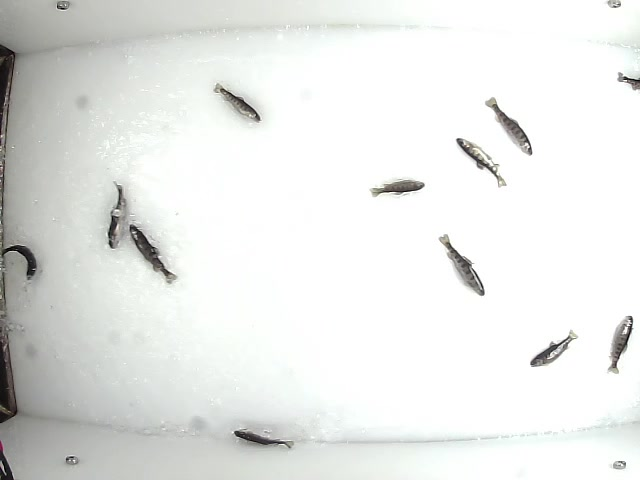fish: (124, 222, 178, 288), (438, 232, 487, 299), (453, 137, 508, 192), (487, 98, 534, 152), (530, 328, 580, 369), (212, 83, 263, 123), (605, 313, 637, 376), (105, 181, 127, 251), (1, 244, 40, 283), (230, 428, 296, 448), (368, 177, 425, 200)
